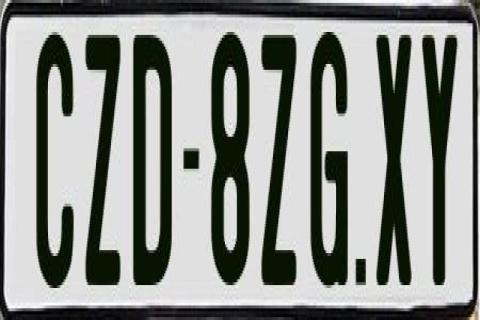0: (210, 29, 253, 282)
C: (35, 32, 78, 294)
D: (132, 26, 170, 291)
G: (310, 26, 354, 300)
X: (374, 27, 411, 280)
Y: (422, 26, 462, 276)
Z: (262, 32, 302, 294), (84, 29, 118, 282)
